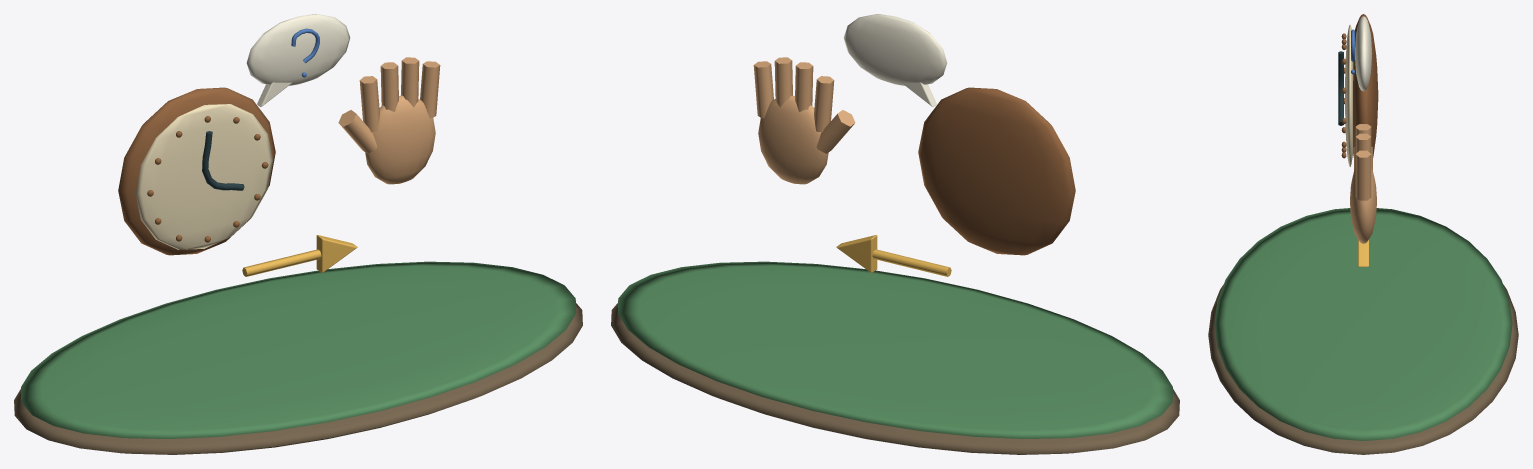
File: complete-second-immediate-action-condition.glb
3 renders of one model, left to right at view 1: azimuth 30°, elevation 25°; view 2: azimuth 150°, elevation 25°; view 3: azimuth 270°, elevation 25°, orthographic. The views are drawn at different scales.
Parts seen in each view (by area): view 1: complete-second-immediate-action-condition_surface_01, complete-second-immediate-action-condition_surface_03, complete-second-immediate-action-condition_surface_00, complete-second-immediate-action-condition_surface_05, complete-second-immediate-action-condition_surface_06, complete-second-immediate-action-condition_surface_02, complete-second-immediate-action-condition_surface_08, complete-second-immediate-action-condition_surface_04; view 2: complete-second-immediate-action-condition_surface_01, complete-second-immediate-action-condition_surface_02, complete-second-immediate-action-condition_surface_00, complete-second-immediate-action-condition_surface_05, complete-second-immediate-action-condition_surface_06, complete-second-immediate-action-condition_surface_08; view 3: complete-second-immediate-action-condition_surface_01, complete-second-immediate-action-condition_surface_00, complete-second-immediate-action-condition_surface_05, complete-second-immediate-action-condition_surface_02, complete-second-immediate-action-condition_surface_06, complete-second-immediate-action-condition_surface_03, complete-second-immediate-action-condition_surface_04.
Part boxes in pixels (box(x1,y1,x2,y2)): complete-second-immediate-action-condition_surface_01: box(21, 261, 575, 438); complete-second-immediate-action-condition_surface_03: box(135, 104, 272, 249); complete-second-immediate-action-condition_surface_00: box(14, 303, 582, 454); complete-second-immediate-action-condition_surface_05: box(338, 57, 440, 184); complete-second-immediate-action-condition_surface_06: box(246, 14, 350, 106); complete-second-immediate-action-condition_surface_02: box(118, 87, 275, 255); complete-second-immediate-action-condition_surface_08: box(242, 235, 357, 276); complete-second-immediate-action-condition_surface_04: box(202, 131, 244, 190); complete-second-immediate-action-condition_surface_01: box(618, 261, 1172, 438); complete-second-immediate-action-condition_surface_02: box(918, 87, 1075, 255); complete-second-immediate-action-condition_surface_00: box(611, 303, 1179, 454); complete-second-immediate-action-condition_surface_05: box(753, 57, 855, 184); complete-second-immediate-action-condition_surface_06: box(843, 14, 947, 106); complete-second-immediate-action-condition_surface_08: box(836, 235, 951, 276); complete-second-immediate-action-condition_surface_01: box(1214, 208, 1512, 440); complete-second-immediate-action-condition_surface_00: box(1208, 284, 1518, 454); complete-second-immediate-action-condition_surface_05: box(1350, 124, 1376, 243); complete-second-immediate-action-condition_surface_02: box(1341, 14, 1378, 158); complete-second-immediate-action-condition_surface_06: box(1355, 16, 1372, 91); complete-second-immediate-action-condition_surface_03: box(1345, 25, 1353, 166); complete-second-immediate-action-condition_surface_04: box(1338, 51, 1343, 125).
Bounding box in the file's own units: 4.56 × 2.9 × 2.5.
